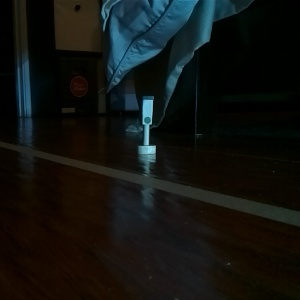traffic light green: (133, 93, 158, 158)
